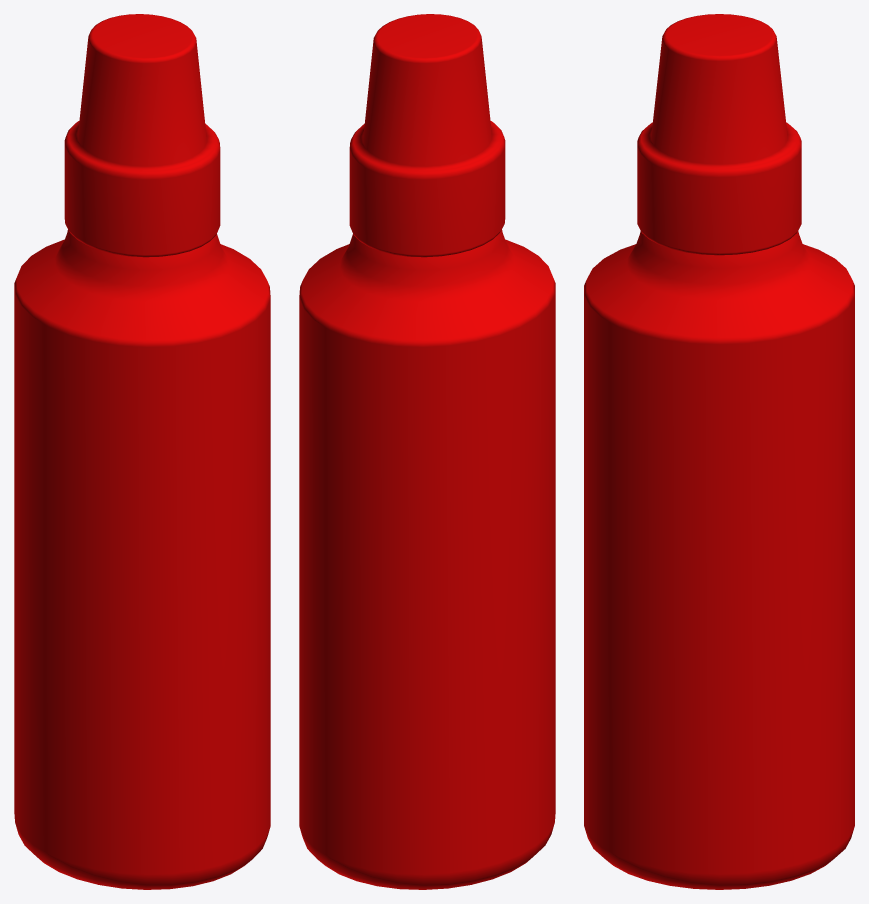
File: Package_9.fbx
3 renders of one model, left to right at view 1: azimuth 30°, elevation 25°; view 2: azimuth 150°, elevation 25°; view 3: azimuth 270°, elevation 25°, orthographic.
Visible parts, largest first — view 1: L11:polySurface13; view 2: L11:polySurface13; view 3: L11:polySurface13.
Boxes of the visible parts, bbox=[...] form: L11:polySurface13: bbox=[14, 14, 270, 889]; L11:polySurface13: bbox=[299, 14, 555, 889]; L11:polySurface13: bbox=[584, 14, 854, 889].
Size of the model in its own units: 5.34 by 18.81 by 5.7.
